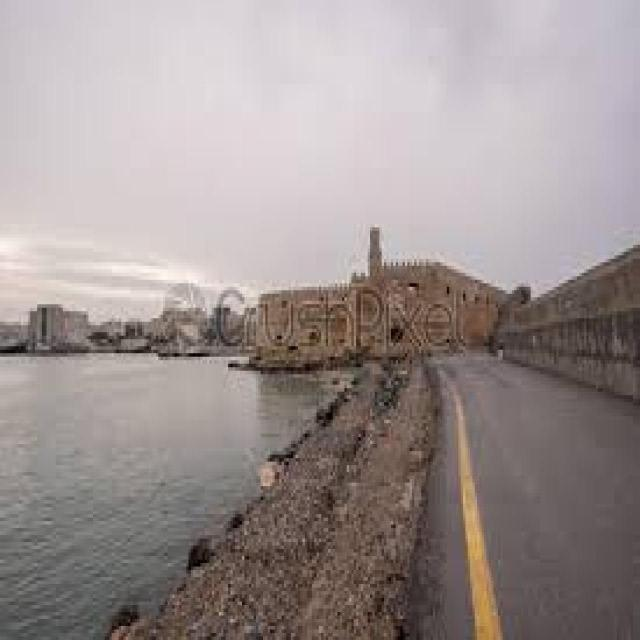Kules: (258, 224, 512, 355)
